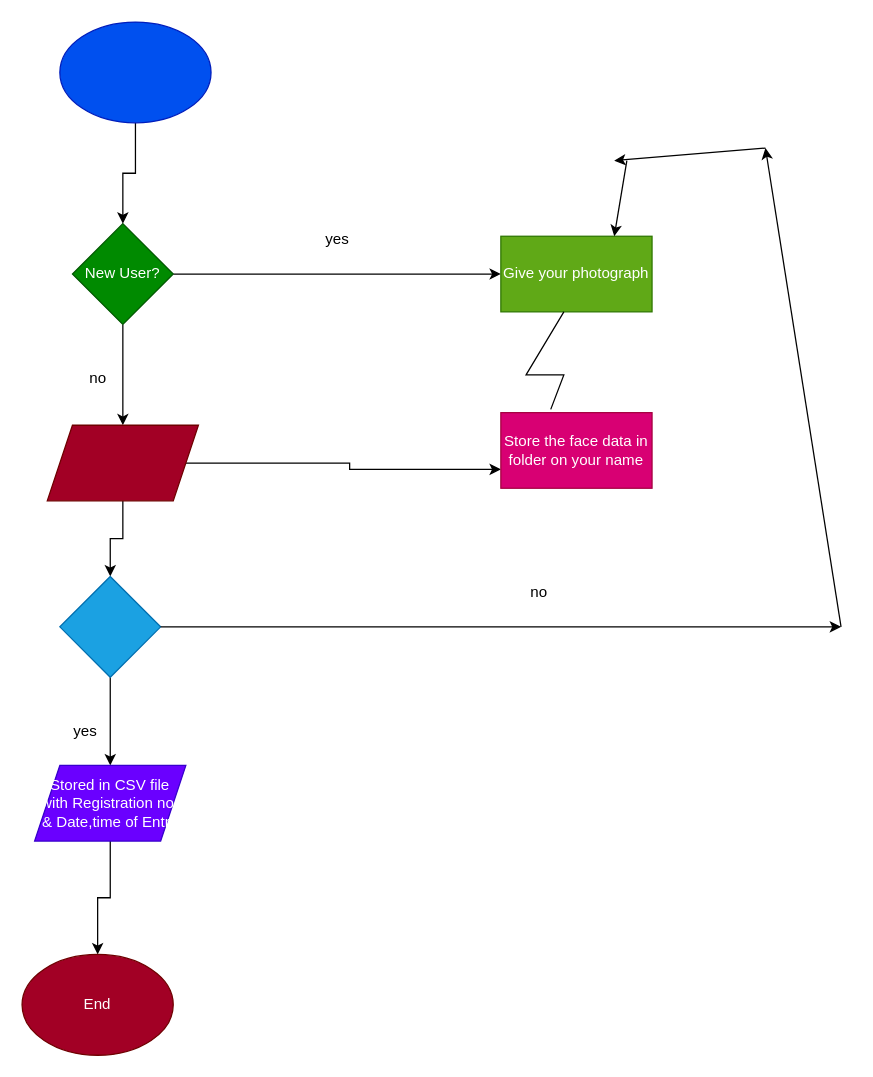
Some shapes in this 873 by 1077 pixel diagram are drawn without their labels. Here are the shapes that lost their labels. From the top down, the centre of each, then its label:
the point at 135,72: start
the point at 122,462: Recognize the face
the point at 110,626: Face Recognized
